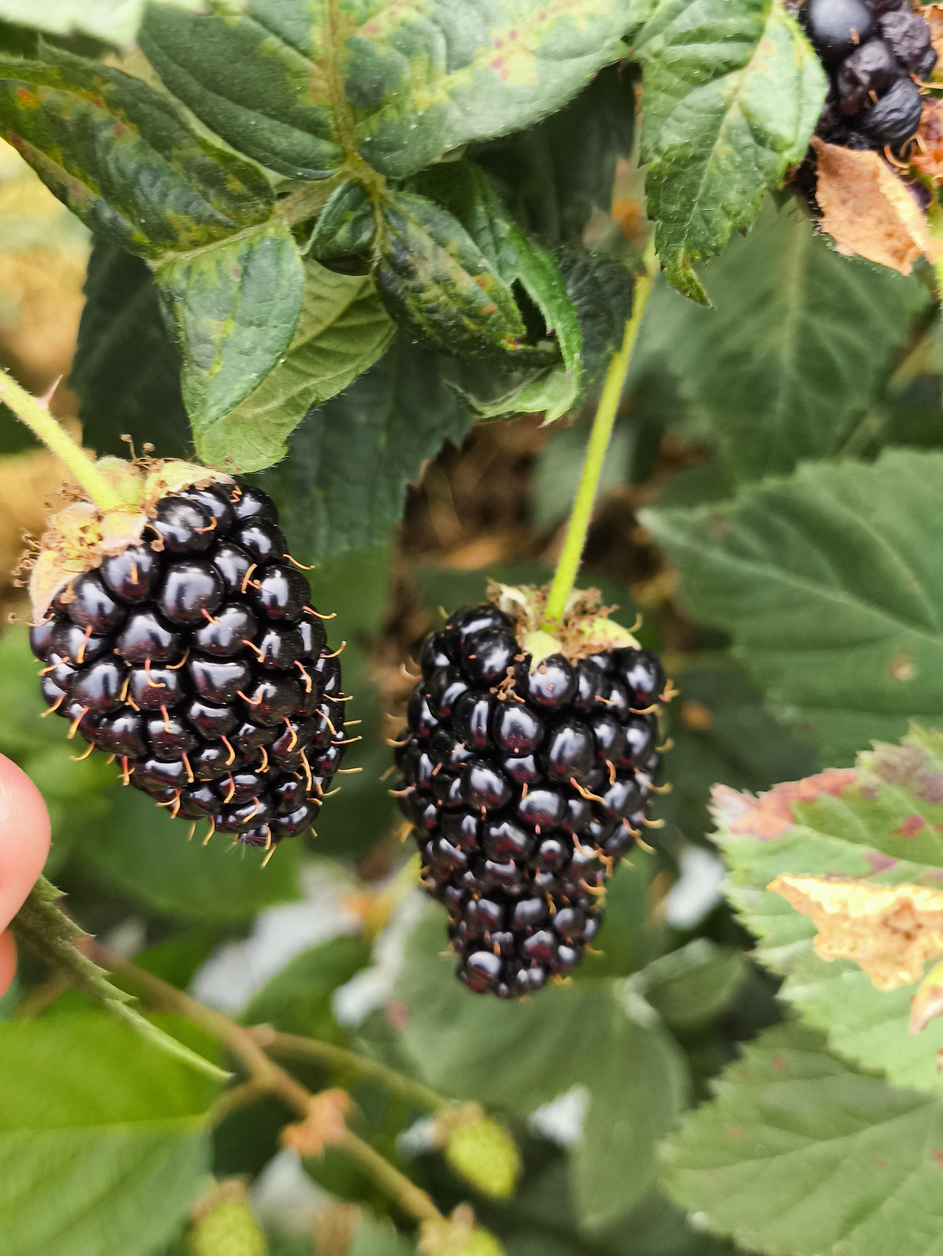maduro: (37, 463, 344, 843), (410, 607, 664, 994)
